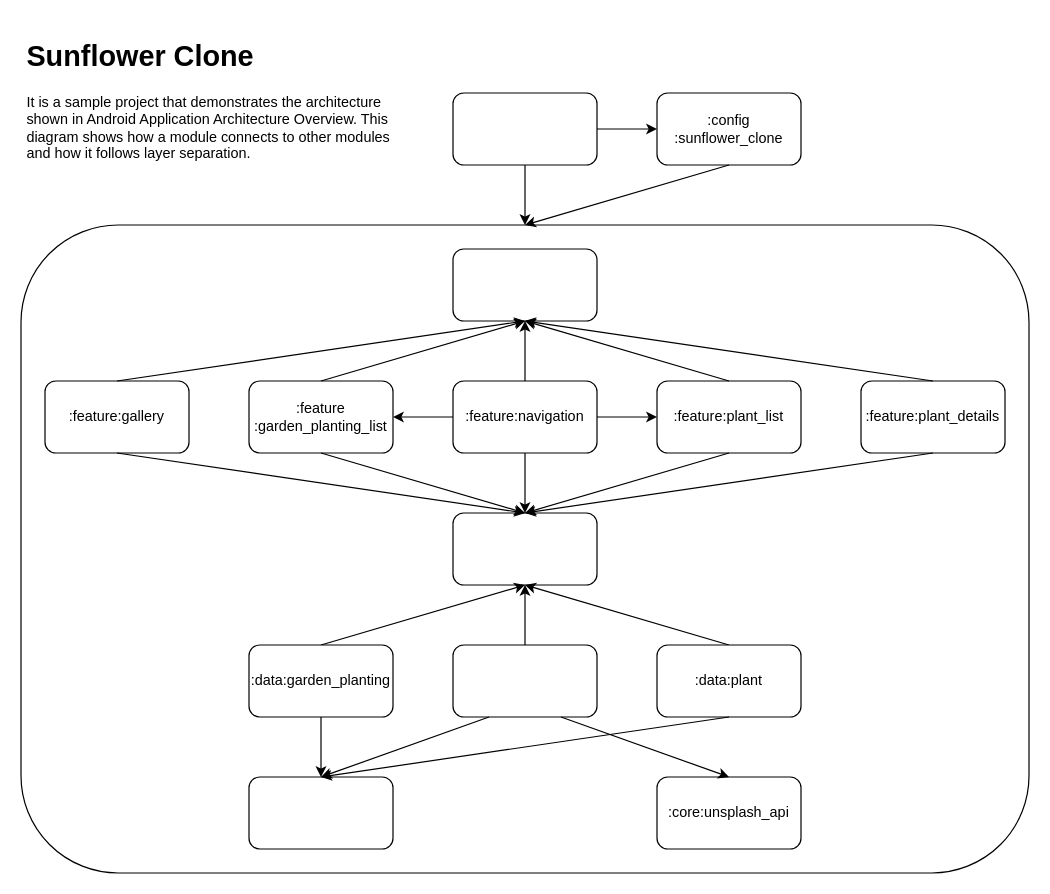
Some shapes in this 1050 by 894 pixel diagram are drawn without their labels. The shapes that lost their labels are listed below. From the top down, each one's centre as x and y in pixels, then its label:
the point at 524,128: :app_sunflower_clone
the point at 524,284: :core:app_ui
the point at 524,548: :domain
the point at 524,680: :data:photo
the point at 320,812: :core:app_database
